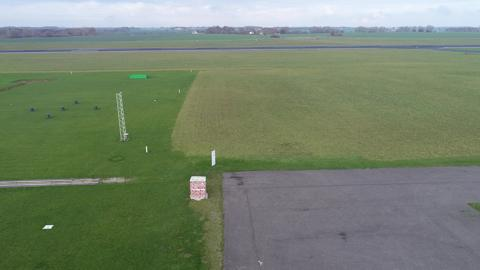RockwoolPallet: (189, 175, 208, 201)
